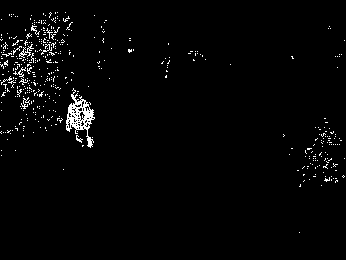person: (65, 87, 98, 150)
